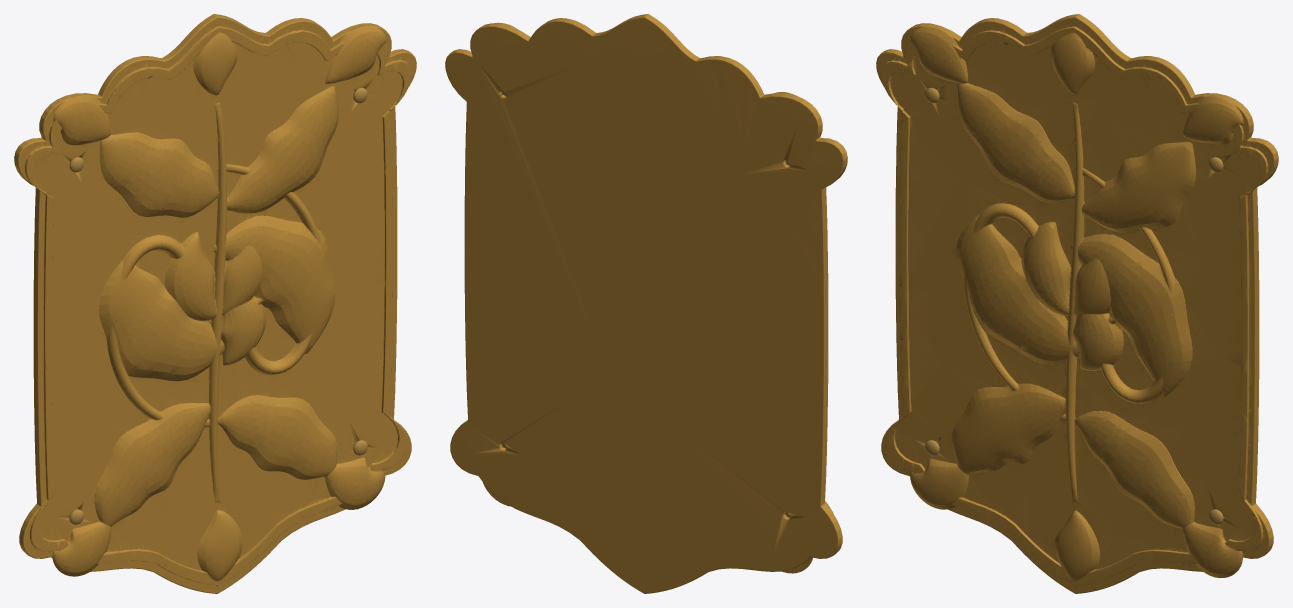
The model's file is gate-plaque.glb.
The picture shows the model from 3 angles, left to right: view 1: azimuth 30°, elevation 25°; view 2: azimuth 150°, elevation 25°; view 3: azimuth 330°, elevation 25°; orthographic projection.
Visible parts, largest first — view 1: gate08_single_cast_floral_plaque; view 2: gate08_single_cast_floral_plaque; view 3: gate08_single_cast_floral_plaque.
Part boxes in pixels (x1,y1,x2,y2): gate08_single_cast_floral_plaque: (14,14,416,593); gate08_single_cast_floral_plaque: (445,14,847,593); gate08_single_cast_floral_plaque: (876,14,1278,593).
Bounding box in the file's own units: 0.4195 × 0.5796 × 0.0209.
